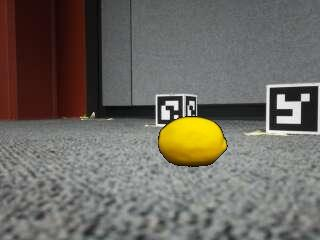lemon: (158, 118, 225, 167)
